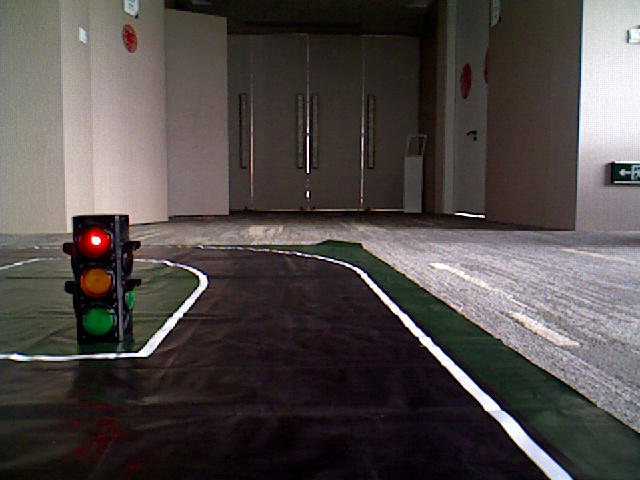red: (76, 217, 121, 343)
